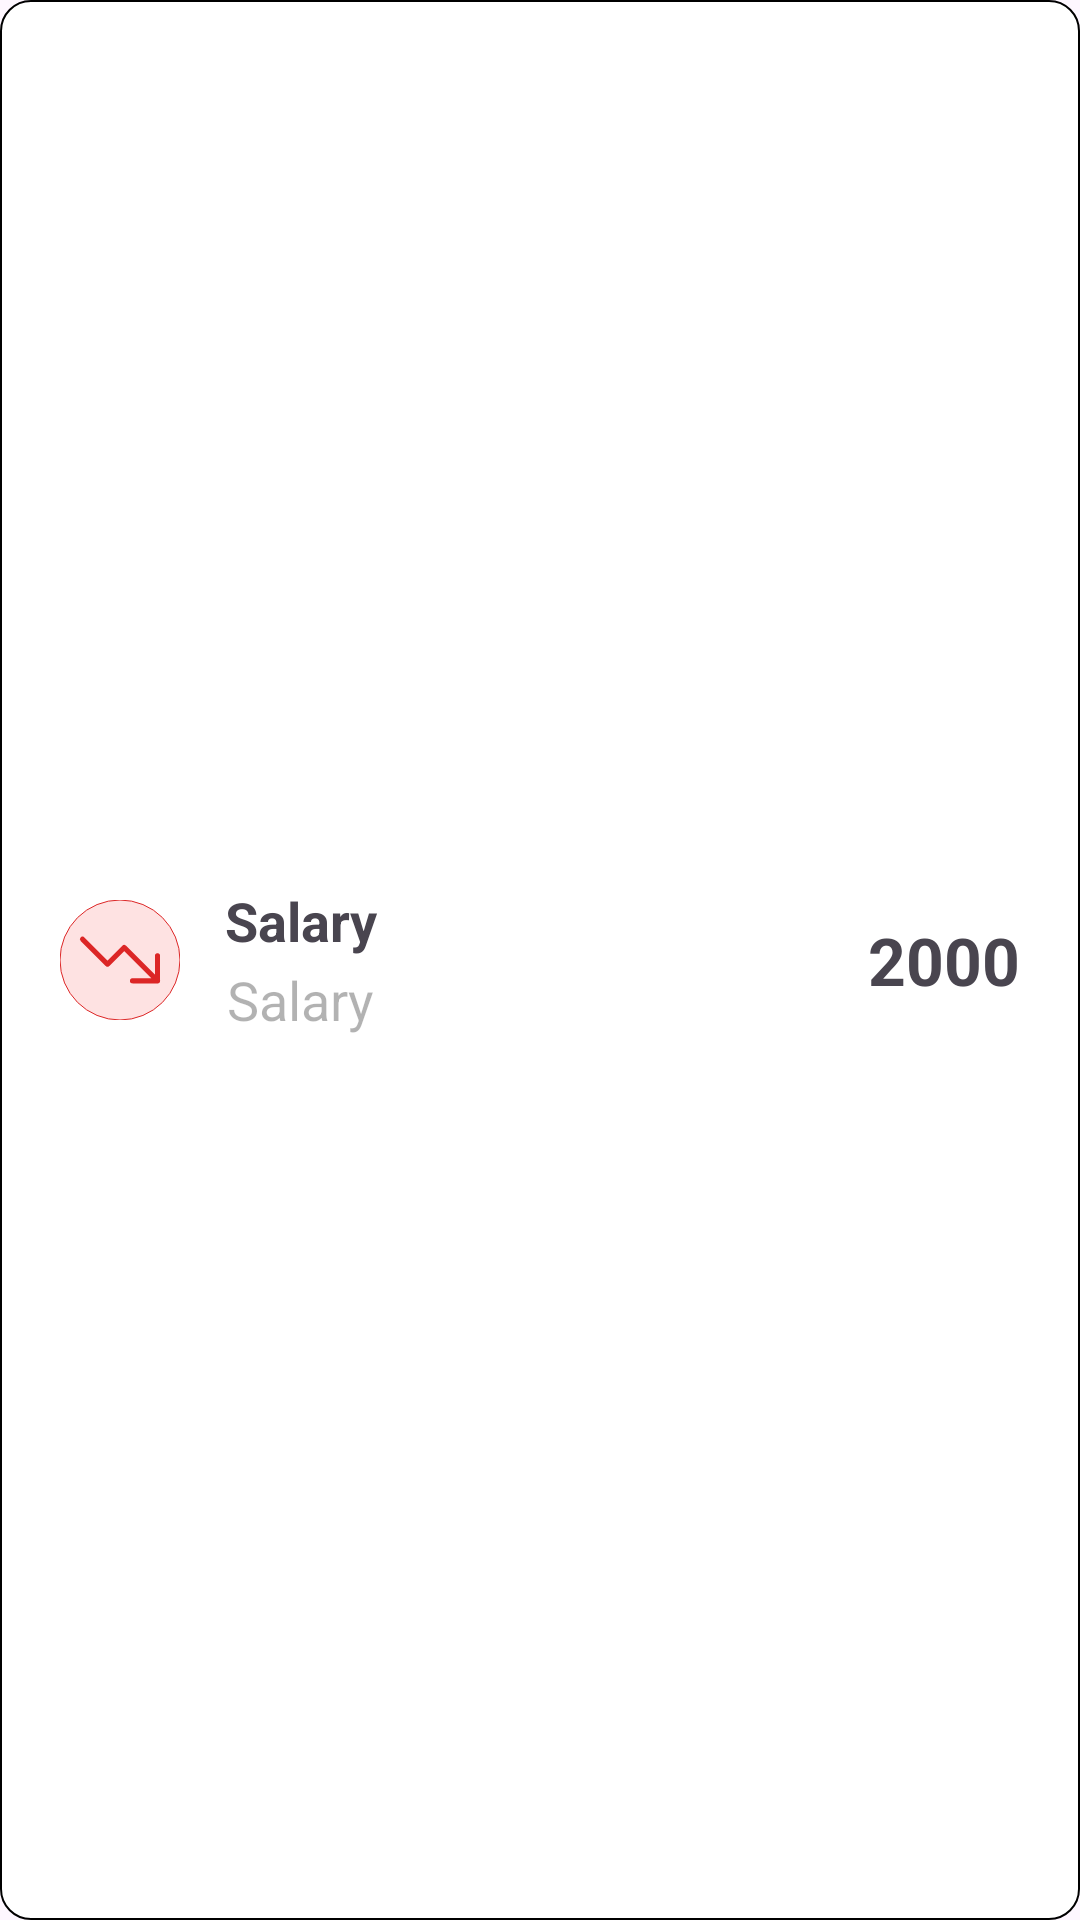

Named icons in this screenshot (1080 x 1920) and their bounding boxes, detection(x1, y1, x2, y2):
trending down: detection(60, 900, 180, 1020)
